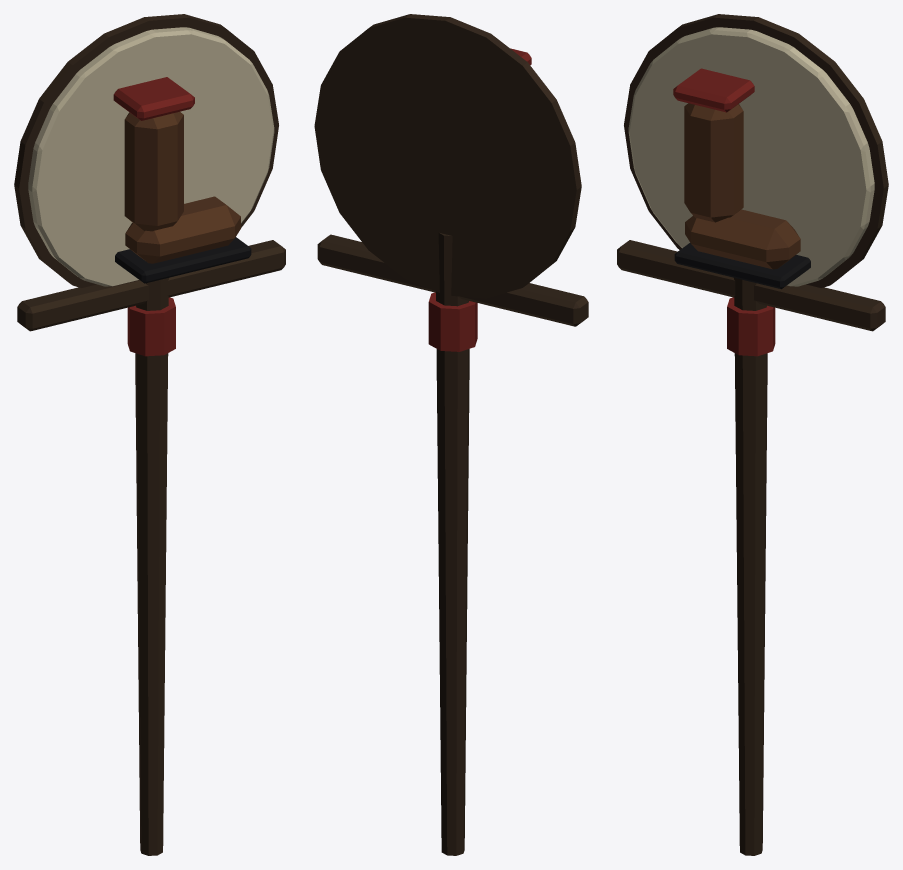
The model's file is sign_cobbler.glb.
The picture shows the model from 3 angles, left to right: view 1: azimuth 30°, elevation 25°; view 2: azimuth 150°, elevation 25°; view 3: azimuth 330°, elevation 25°; orthographic projection.
Parts seen in each view (by area): view 1: sign_cobbler; view 2: sign_cobbler; view 3: sign_cobbler.
Boxes of the visible parts, box(x1,y1,x2,y2) form: sign_cobbler: box(14, 14, 285, 855); sign_cobbler: box(314, 14, 588, 855); sign_cobbler: box(617, 14, 888, 855).
Size of the model in its own units: 1.39 by 4.25 by 0.4417.
